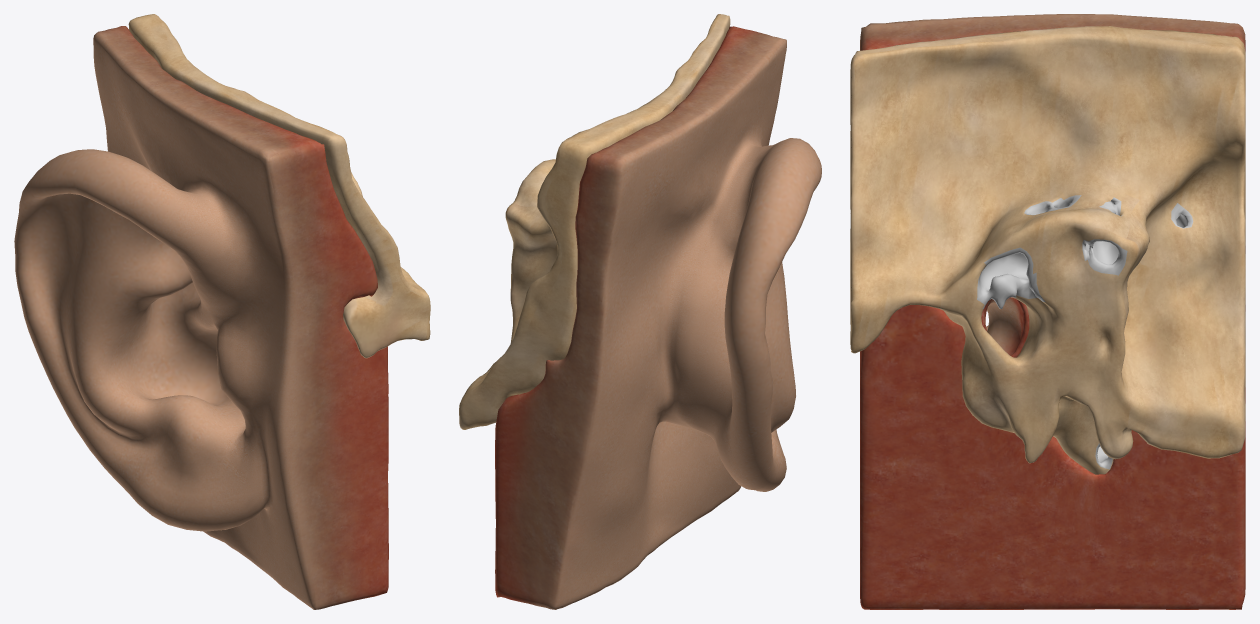
Rendered from ear.gltf.
3 renders of one model, left to right at view 1: azimuth 30°, elevation 25°; view 2: azimuth 150°, elevation 25°; view 3: azimuth 270°, elevation 25°, orthographic. The views are drawn at different scales.
Parts seen in each view (by area): view 1: Object_4, Object_2; view 2: Object_4, Object_2; view 3: Object_2, Object_4, Object_3.
Part boxes in pixels (x1=…): Object_4: x1=14, y1=26, x2=388, y2=609; Object_2: x1=128, y1=14, x2=430, y2=358; Object_4: x1=495, y1=26, x2=821, y2=609; Object_2: x1=459, y1=14, x2=730, y2=429; Object_2: x1=850, y1=26, x2=1245, y2=474; Object_4: x1=860, y1=14, x2=1245, y2=609; Object_3: x1=977, y1=195, x2=1193, y2=469.
Bounding box in the file's own units: 0.0491 × 0.079 × 0.0537.
